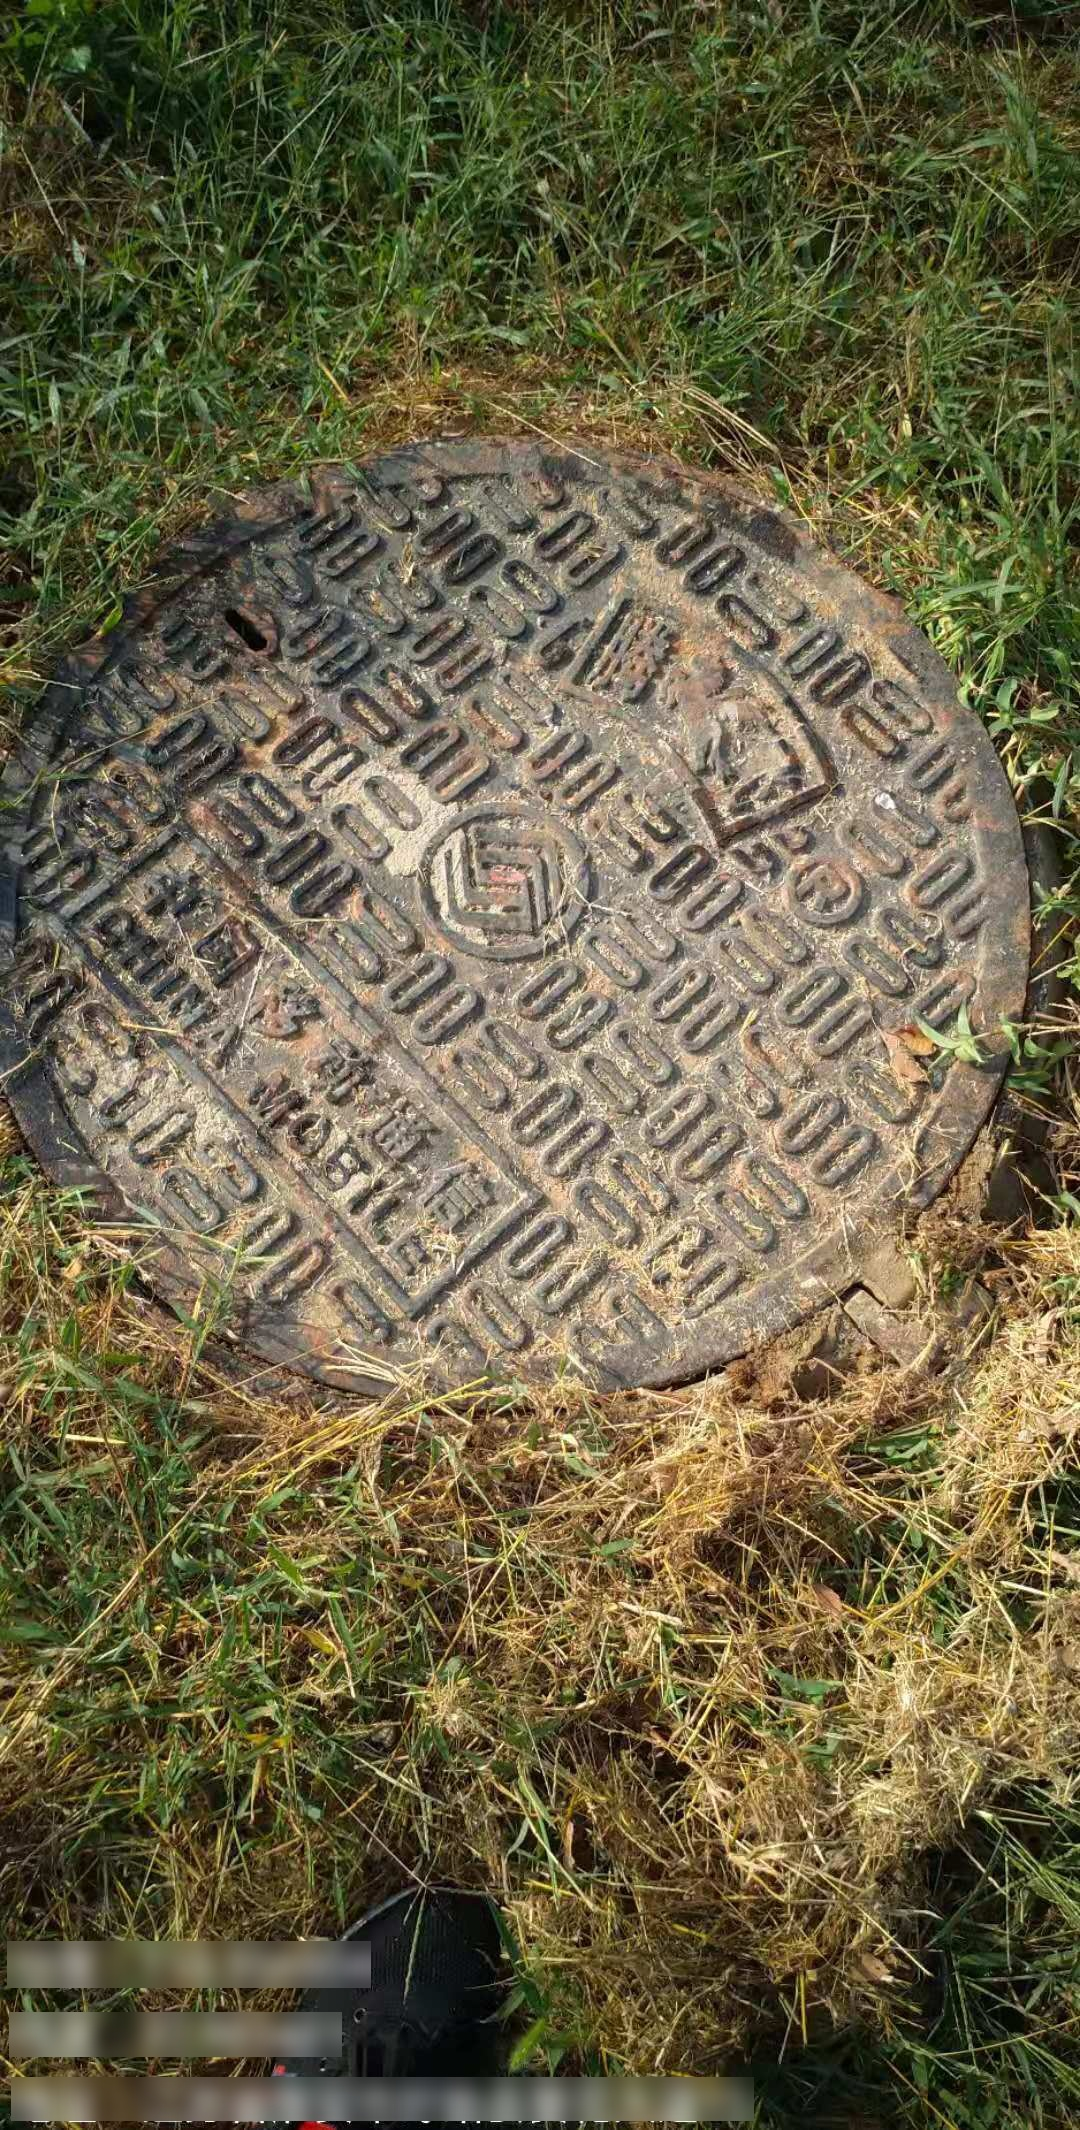good: (18, 441, 1039, 1409)
